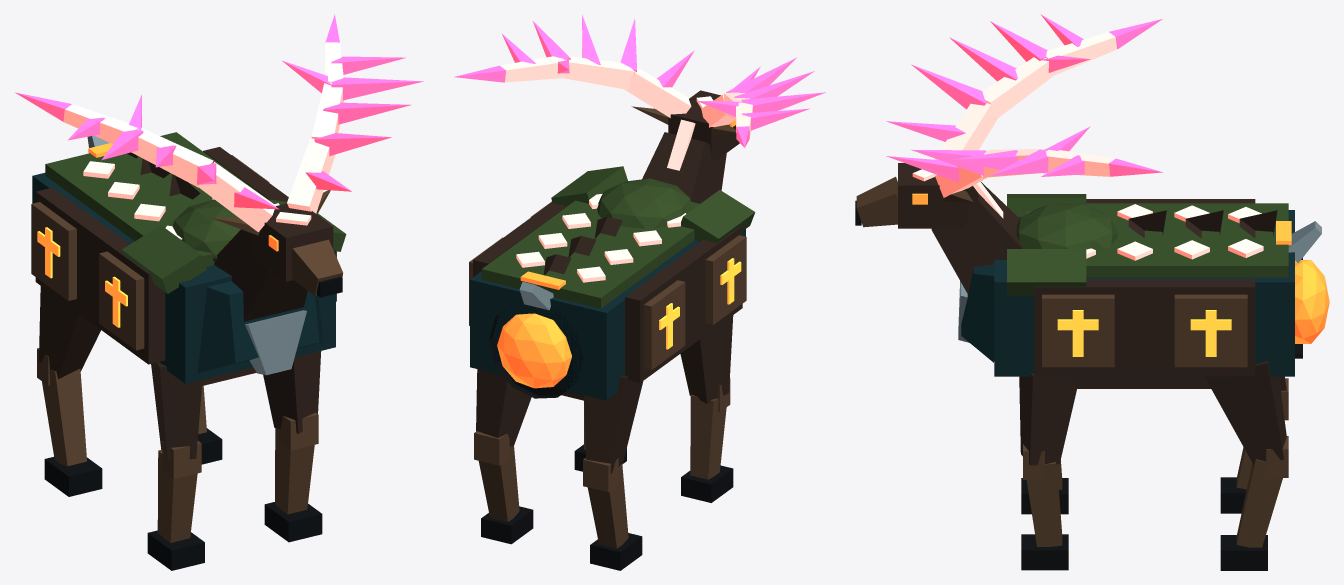
The model's file is shell.glb.
3 renders of one model, left to right at view 1: azimuth 30°, elevation 25°; view 2: azimuth 150°, elevation 25°; view 3: azimuth 270°, elevation 25°, orthographic. The views are drawn at different scales.
Visible parts, largest first — view 1: FShellHull, FShellGlow; view 2: FShellHull, FShellGlow; view 3: FShellHull, FShellGlow.
Part boxes in pixels (x1,y1,x2,y2): FShellHull: (31,132,346,570); FShellGlow: (15,14,423,327); FShellHull: (469,90,755,570); FShellGlow: (454,14,825,388); FShellHull: (855,163,1321,570); FShellGlow: (886,14,1329,356).
Size of the model in its own units: 2.44 by 3.08 by 3.
